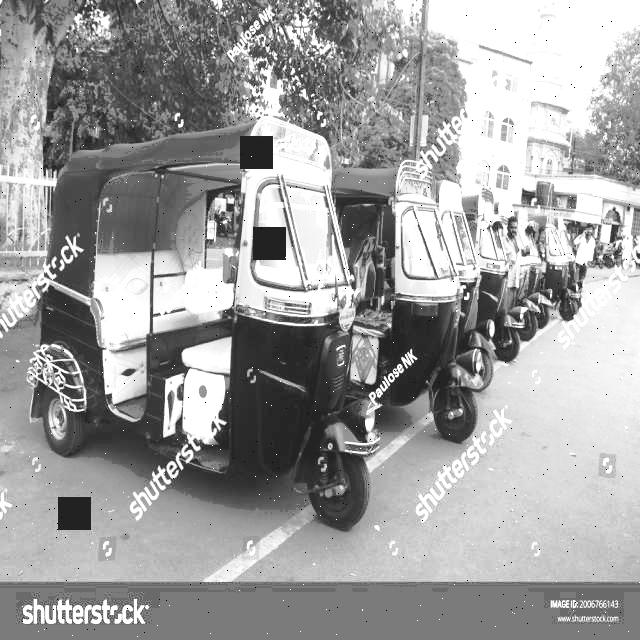Auto-Rickshaw: (48, 116, 381, 554), (337, 160, 505, 464), (464, 189, 592, 367)
